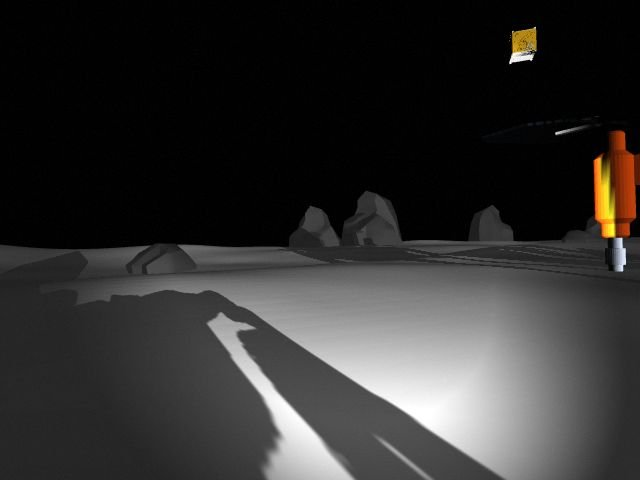cubesat: (505, 20, 549, 72)
